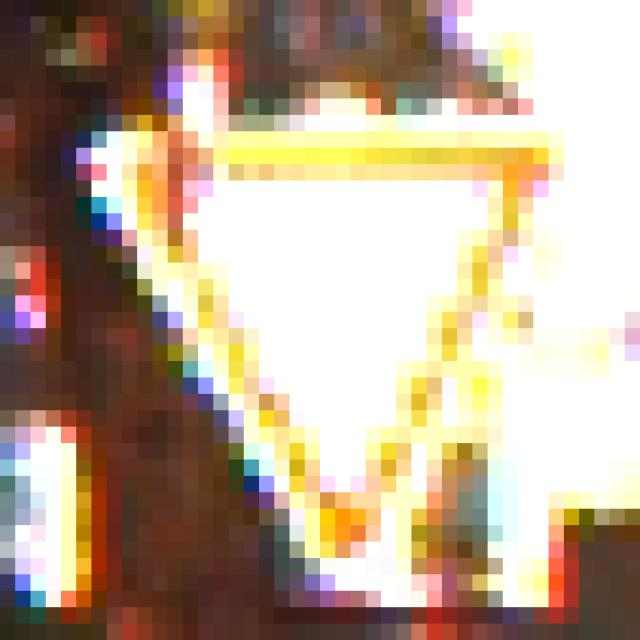Give Way: (92, 99, 565, 559)
